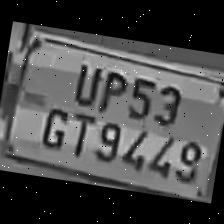3: (150, 77, 185, 126)
4: (118, 117, 152, 171), (143, 125, 176, 178)
5: (122, 70, 156, 120)
9: (88, 112, 124, 163), (171, 132, 205, 184)
G: (36, 100, 72, 152)
P: (95, 63, 130, 115)
T: (65, 106, 96, 157)
U: (69, 57, 104, 108)
